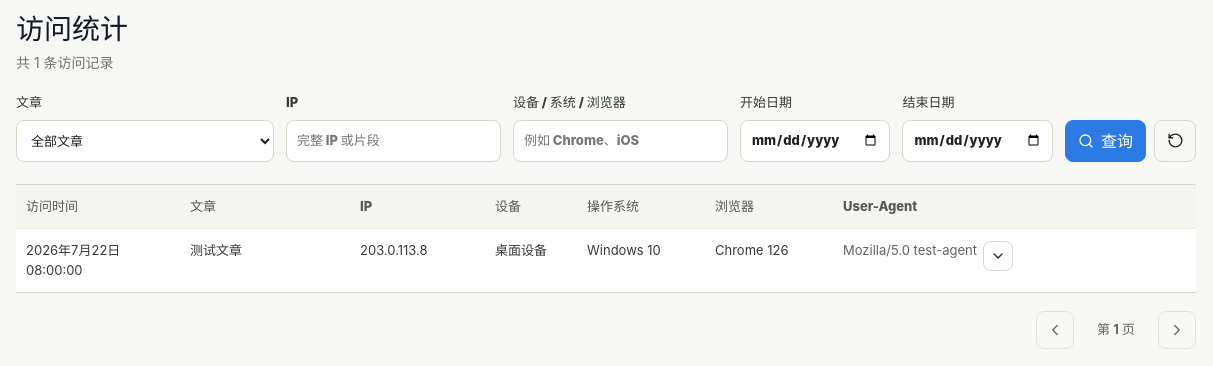
StatisticsPage request lifecycle › clears old rows during a loading query and recovers after an error
Check: the text "测试文章" is shown, box left=180, top=228, right=350, bottom=292
Type "203" into the field labelled "IP".
click(394, 140); type("203")  # box left=286, top=120, right=501, bottom=162
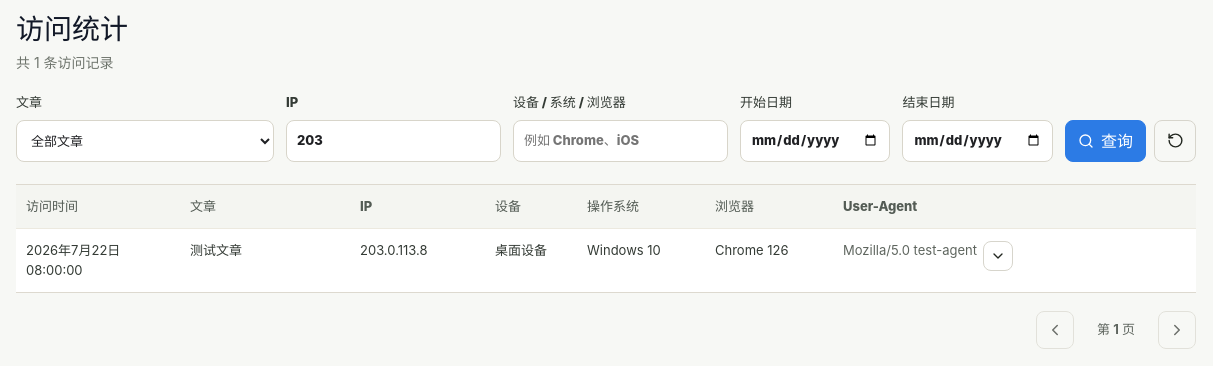
Submit the form, box left=16, top=93, right=1196, bottom=162
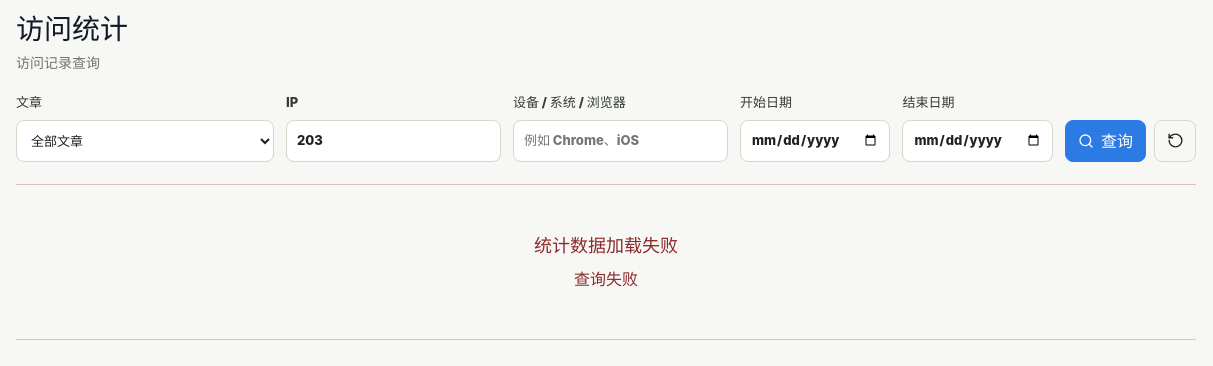
Check: the text "测试文章" is gone
Check: the text "查询失败" is shown, box left=574, top=267, right=638, bottom=291
Replace the text in the field labelled "IP" with "204" at (394, 140), box left=286, top=120, right=501, bottom=162
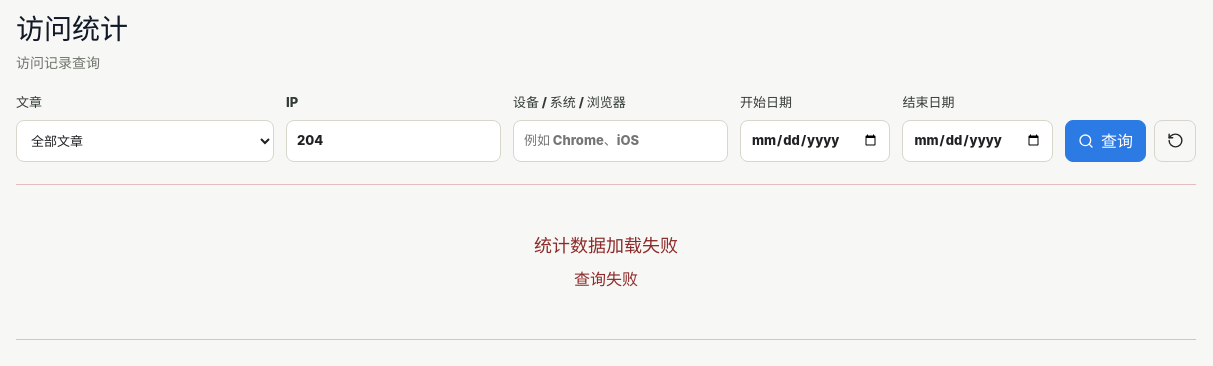
Submit the form, box left=16, top=93, right=1196, bottom=162
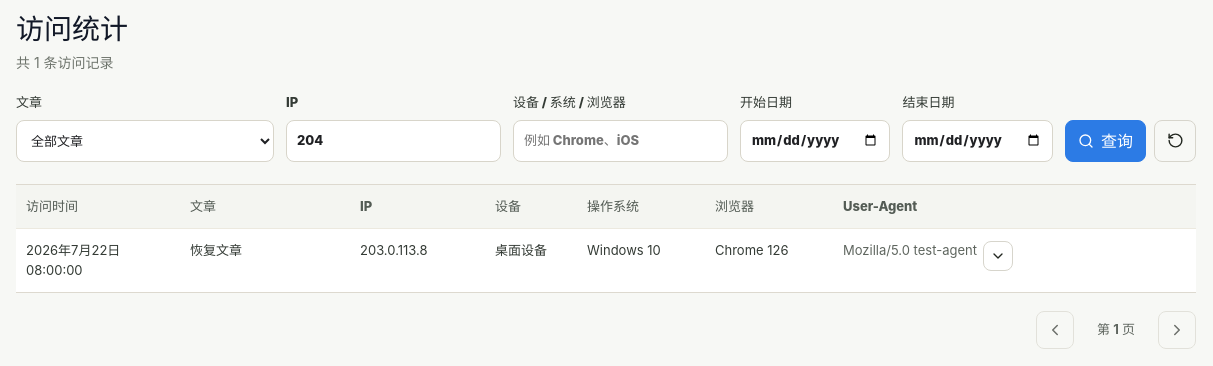
Check: the text "恢复文章" is shown, box left=180, top=228, right=350, bottom=292
Check: the text "查询失败" is gone
